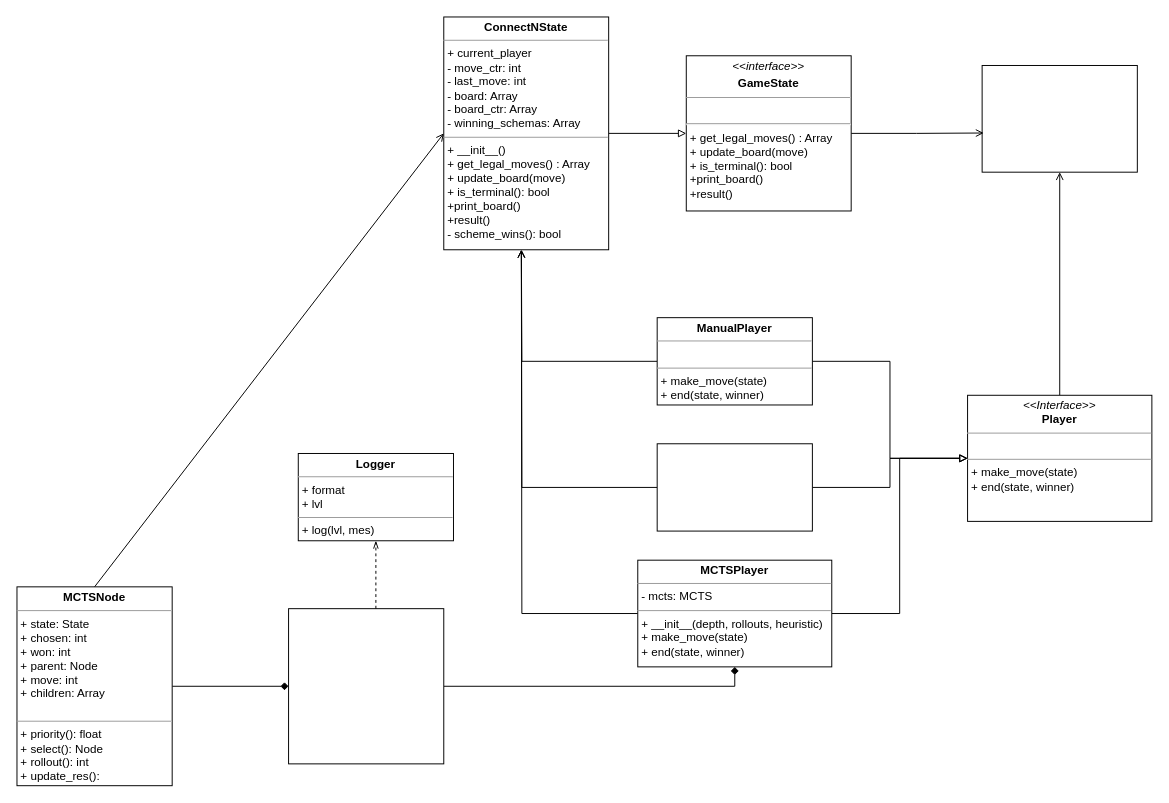
Image size: 1169x803. Some labels were removed from this diagram. The shapes that lost their labels are listed below. From the top down, each one's box as (x1, y1, x2, y2) in pixels, then its label:
(981, 65, 1137, 172): Game - state - players + __init__() + play()
(656, 443, 812, 531): RandomPlayer + make_move(state) + end(state, winner)
(288, 608, 444, 764): MCTS + field: Type + __init__() + make_best_move() + make_opponents_move()
